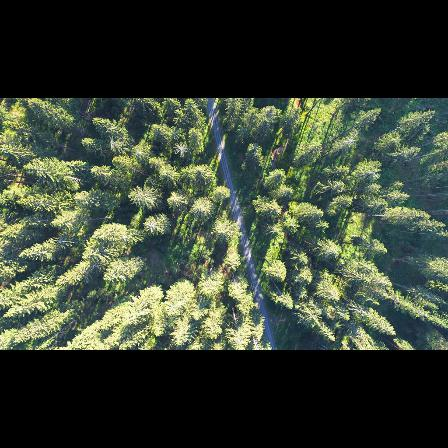Sick: (170, 140, 191, 158), (142, 218, 160, 235), (116, 230, 134, 244)
